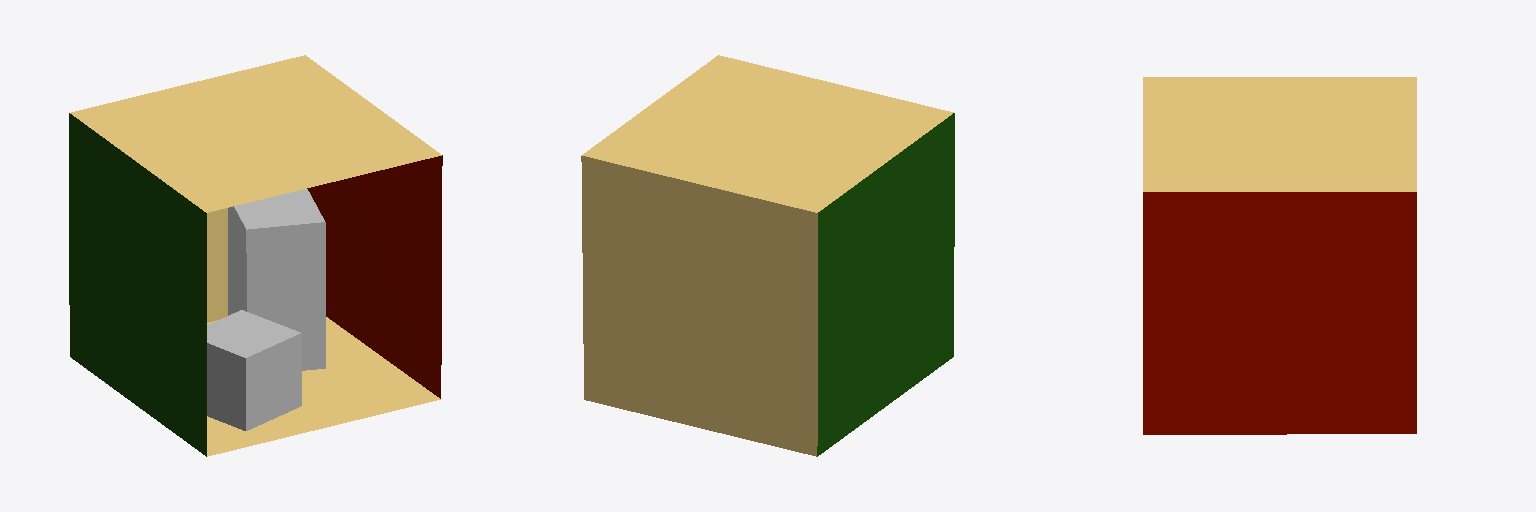
The model's file is cornell_metal.obj.
The picture shows the model from 3 angles: view 1: azimuth 30°, elevation 25°; view 2: azimuth 150°, elevation 25°; view 3: azimuth 270°, elevation 25°; orthographic projection.
Visible parts, largest first — view 1: room, tallbox, smallbox; view 2: room; view 3: room.
Part boxes in pixels (x1,y1,x2,y2): room: (69,55,442,456); tallbox: (228,189,325,370); smallbox: (207,310,301,430); room: (581,55,954,456); room: (1143,77,1416,434).
Size of the model in its own units: 781 by 771 by 786.